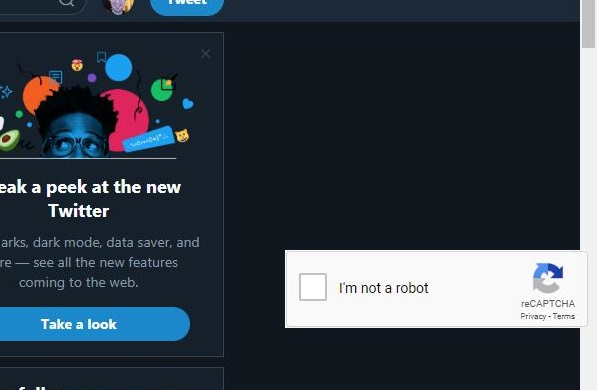captcha: (300, 273, 434, 301)
